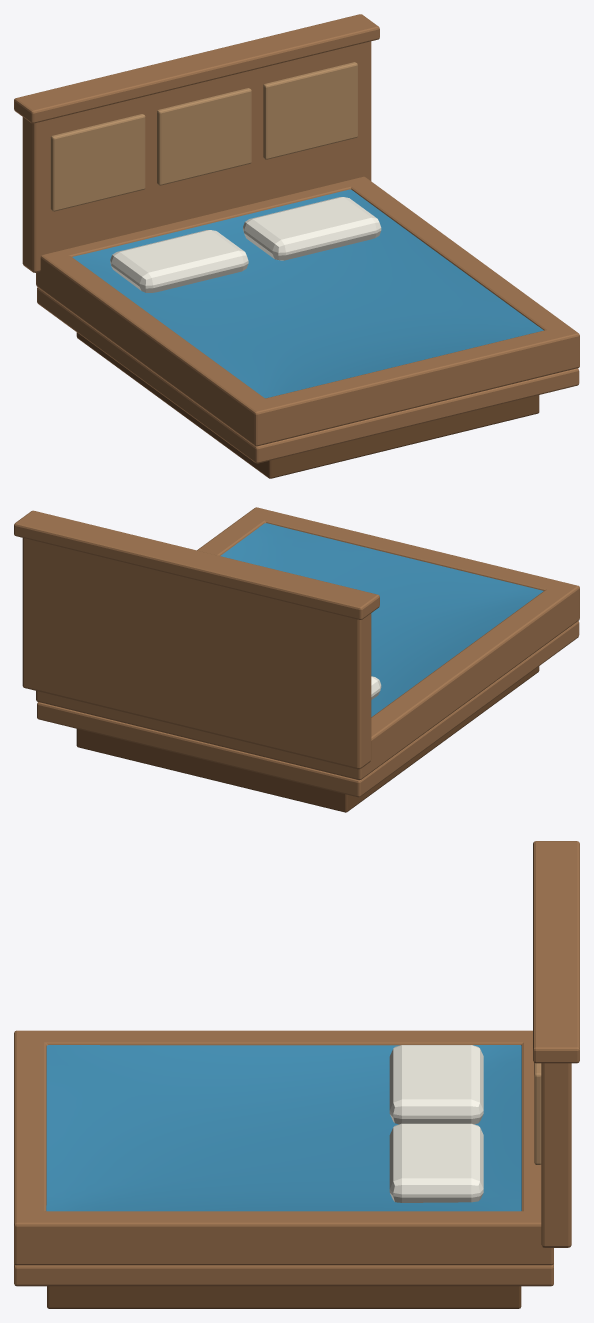
Rendered from bed_waterbed.glb.
The picture shows the model from 3 angles, top to bottom: view 1: azimuth 30°, elevation 25°; view 2: azimuth 150°, elevation 25°; view 3: azimuth 270°, elevation 25°; orthographic projection. The views are drawn at different scales.
Visible parts, largest first — view 1: Waterbed closed softly sagged vinyl bladder, Waterbed continuous closed wooden surround, Waterbed broad wooden headboard, Waterbed headboard top ledge, Waterbed broad wooden platform deck, Waterbed headboard inset wood panel, Waterbed headboard inset wood panel.002, Waterbed headboard inset wood panel.001, Waterbed sturdy recessed pedestal, Waterbed soft seated pillow.001, Waterbed soft seated pillow; view 2: Waterbed broad wooden headboard, Waterbed continuous closed wooden surround, Waterbed closed softly sagged vinyl bladder, Waterbed headboard top ledge, Waterbed broad wooden platform deck, Waterbed sturdy recessed pedestal; view 3: Waterbed closed softly sagged vinyl bladder, Waterbed continuous closed wooden surround, Waterbed broad wooden platform deck, Waterbed sturdy recessed pedestal, Waterbed headboard top ledge, Waterbed soft seated pillow.001, Waterbed soft seated pillow, Waterbed broad wooden headboard, Waterbed headboard inset wood panel.002.
Part boxes in pixels (<box>): Waterbed closed softly sagged vinyl bladder: <box>72,189,543,398</box>; Waterbed continuous closed wooden surround: <box>36,176,579,446</box>; Waterbed broad wooden headboard: <box>22,41,371,272</box>; Waterbed headboard top ledge: <box>14,14,379,123</box>; Waterbed broad wooden platform deck: <box>37,287,579,463</box>; Waterbed headboard inset wood panel: <box>50,114,145,211</box>; Waterbed headboard inset wood panel.002: <box>263,62,357,159</box>; Waterbed headboard inset wood panel.001: <box>157,88,251,185</box>; Waterbed sturdy recessed pedestal: <box>76,332,539,478</box>; Waterbed soft seated pillow.001: <box>243,197,381,260</box>; Waterbed soft seated pillow: <box>110,230,248,292</box>; Waterbed broad wooden headboard: <box>22,538,371,769</box>; Waterbed continuous closed wooden surround: <box>36,507,579,780</box>; Waterbed closed softly sagged vinyl bladder: <box>220,523,543,716</box>; Waterbed headboard top ledge: <box>14,510,379,619</box>; Waterbed broad wooden platform deck: <box>37,621,579,797</box>; Waterbed sturdy recessed pedestal: <box>76,666,539,812</box>; Waterbed closed softly sagged vinyl bladder: <box>46,1045,521,1211</box>; Waterbed continuous closed wooden surround: <box>14,1030,553,1265</box>; Waterbed broad wooden platform deck: <box>14,1263,553,1286</box>; Waterbed sturdy recessed pedestal: <box>47,1286,521,1308</box>; Waterbed headboard top ledge: <box>533,841,579,1063</box>; Waterbed soft seated pillow.001: <box>389,1123,483,1202</box>; Waterbed soft seated pillow: <box>389,1045,483,1124</box>; Waterbed broad wooden headboard: <box>541,1063,571,1247</box>; Waterbed headboard inset wood panel.002: <box>534,1063,541,1164</box>.
Bounding box in the file's own units: 2.1 × 1.34 × 2.41.
